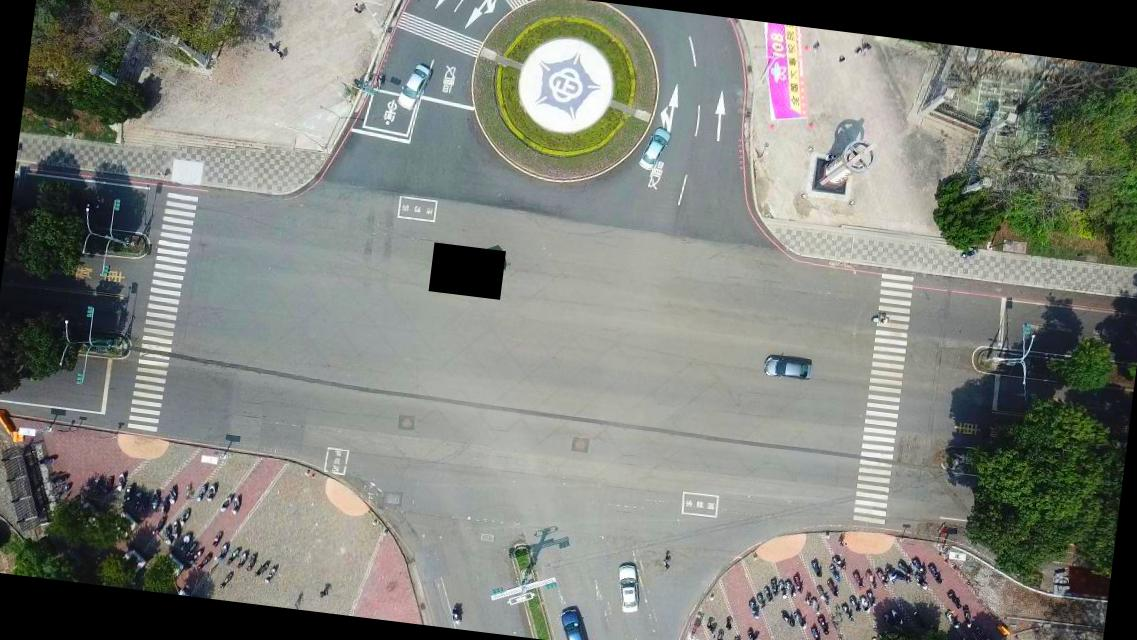vehicle: (394, 60, 433, 114), (612, 558, 644, 614), (760, 351, 814, 382), (637, 126, 671, 174), (555, 601, 595, 639)
